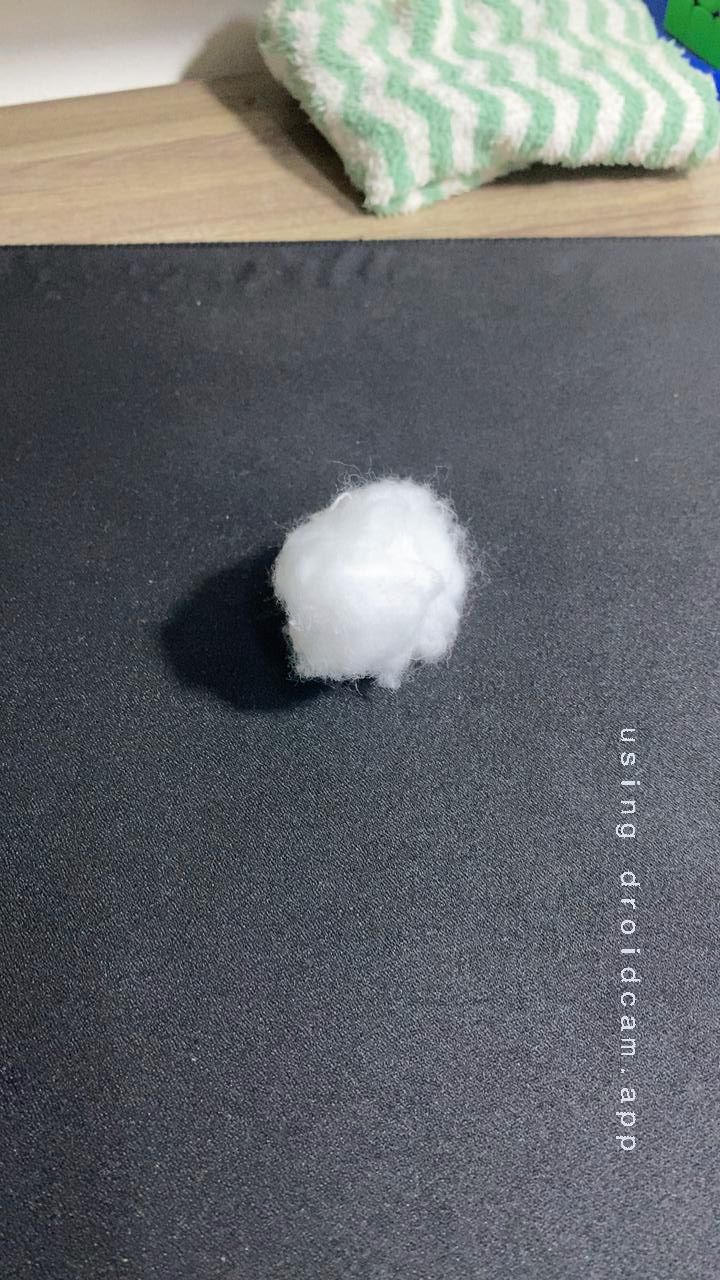cotton: (243, 457, 498, 705)
